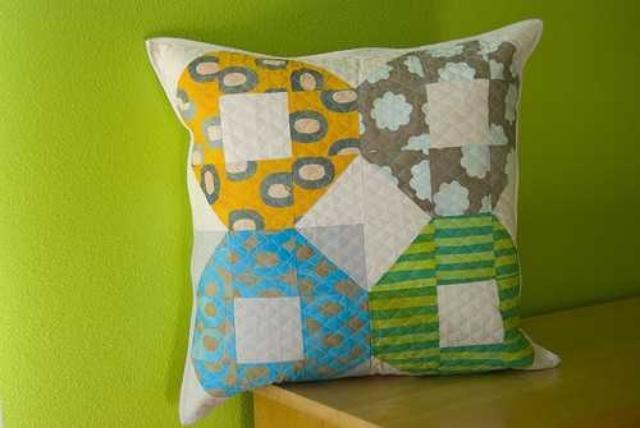pillow: (144, 18, 560, 421)
